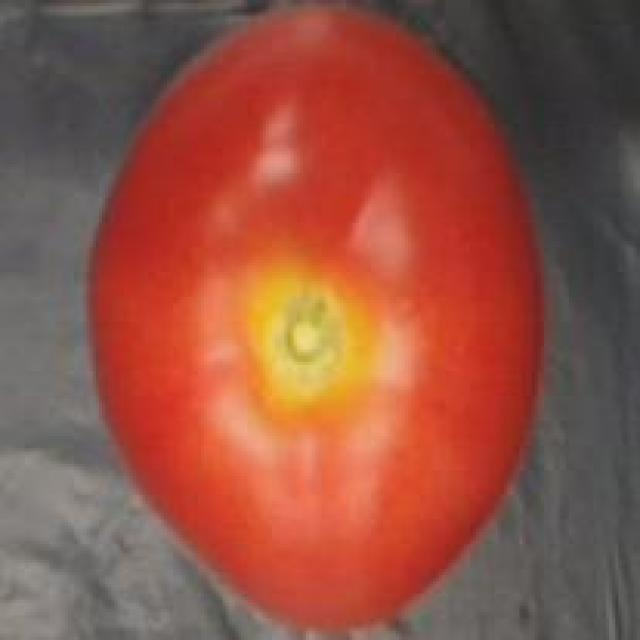ripe tomato: (74, 3, 557, 640)
